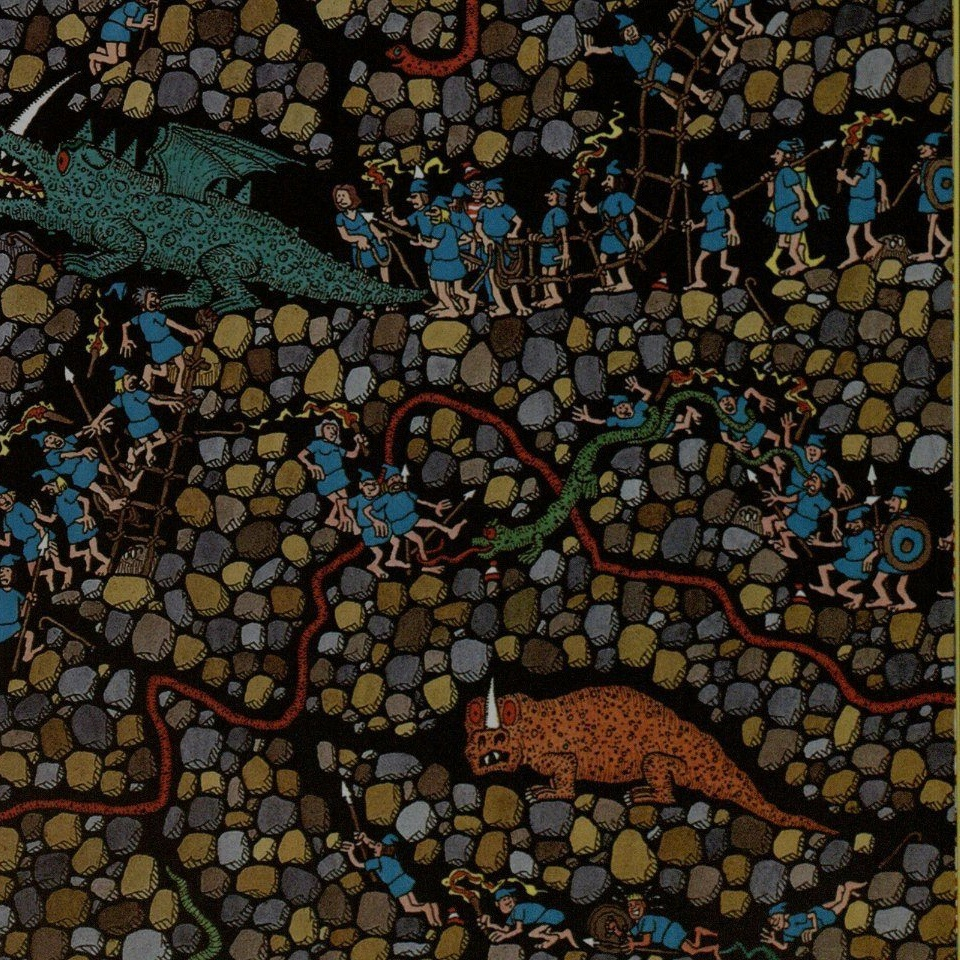waldo: (462, 162, 486, 197)
